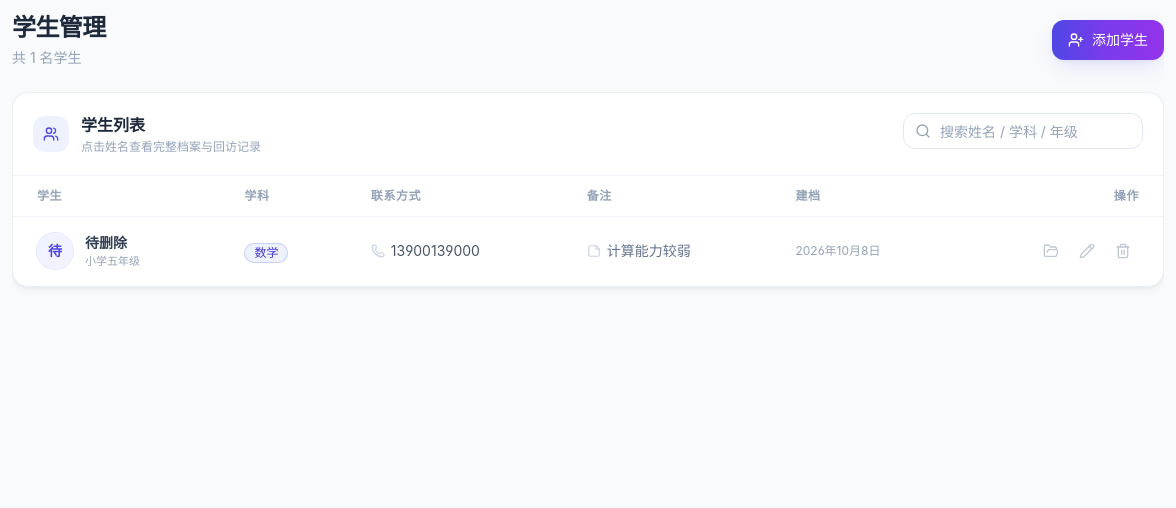
Test: 学生管理 · 删除 › 删除前必须二次确认
This screenshot has width=1176, height=508.
expect the text "待删除" is shown: met, box x1=85 y1=234 x2=127 y2=251
What coordinates should you click on to do the following:
click the button titled "删除"
I would click on:
 (1123, 251)
Its box is x1=1107 y1=235 x2=1139 y2=267.
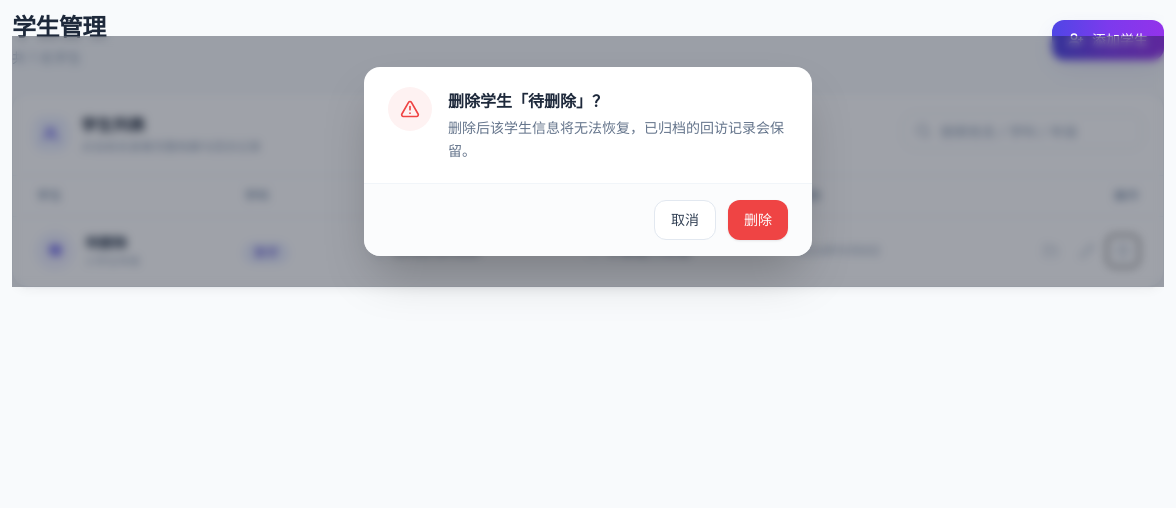
expect the heading "删除学生「待删除」？" is shown: met, box x1=448 y1=91 x2=608 y2=111
What coordinates should you click on to do the following:
click the button "删除"
I would click on:
 (758, 220)
Its box is x1=728 y1=200 x2=788 y2=240.
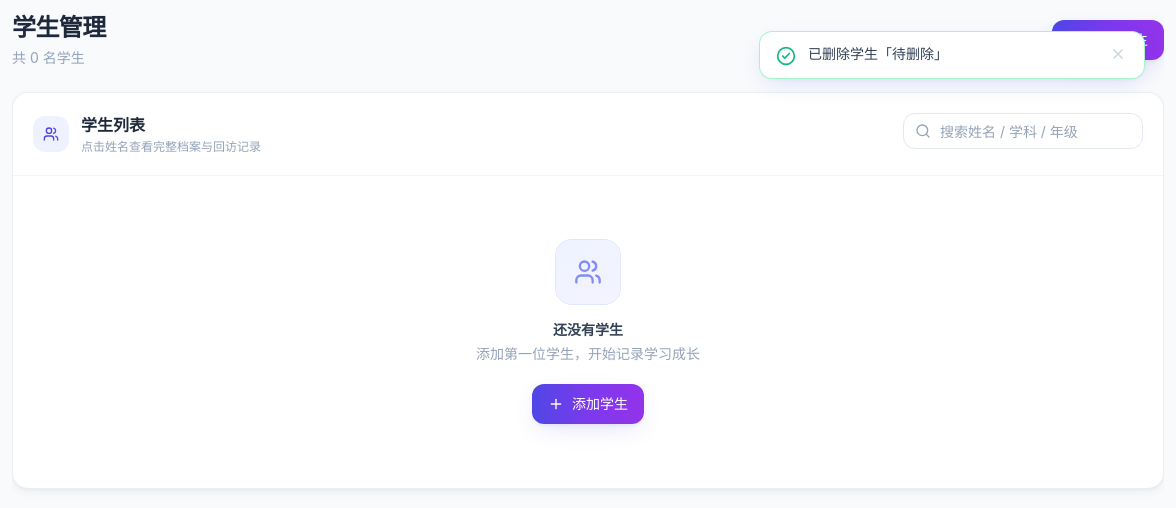
expect the text "已删除学生「待删除」" is shown: met, box x1=808 y1=45 x2=948 y2=62
